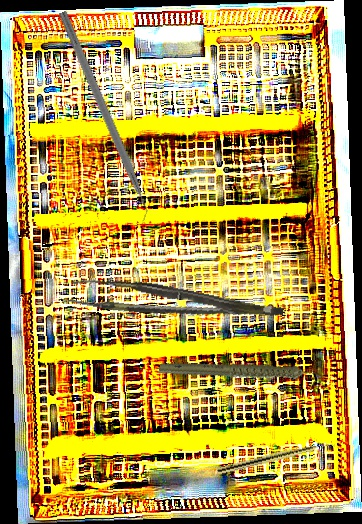Chopper: (46, 10, 157, 230)
Handpiece: (157, 328, 326, 419), (216, 438, 336, 477)
Tissue Forceps: (69, 267, 284, 343)
